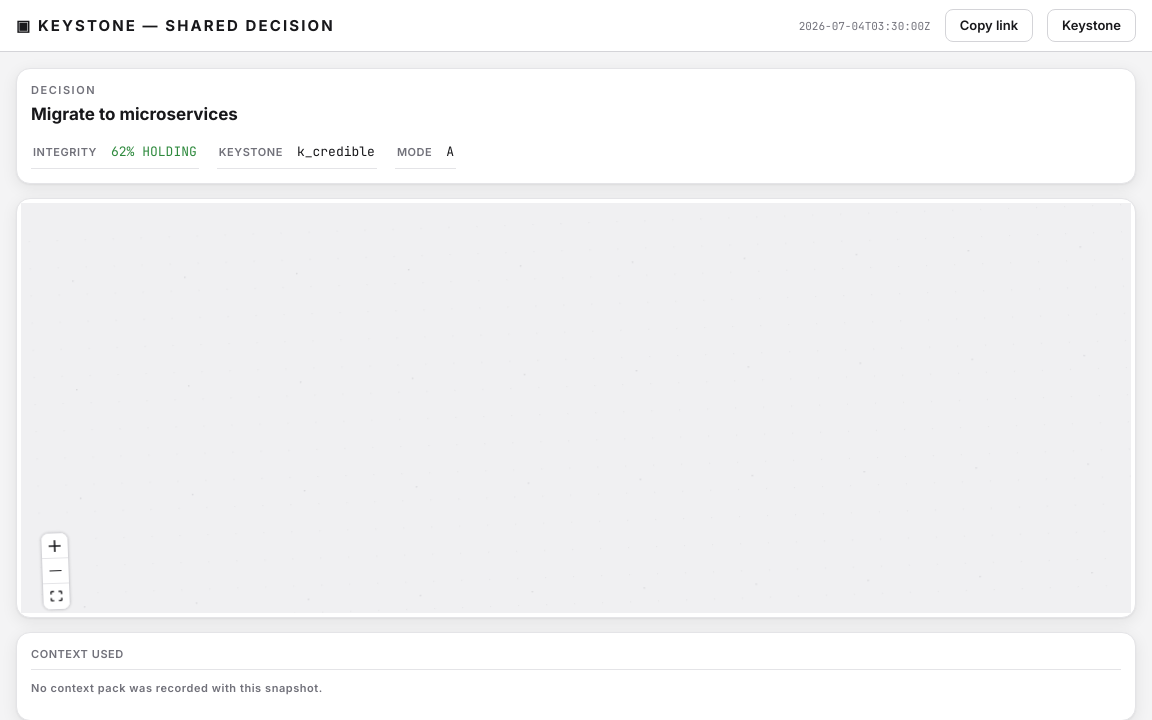
Test: ShareView (/d/[id]) — read-only share render › Copy link writes the current URL to the clipboard and flips the button label
What coordinates should you click on to do the following:
click the button "Copy link"
I would click on:
 (989, 25)
Its box is [945,9,1033,42].
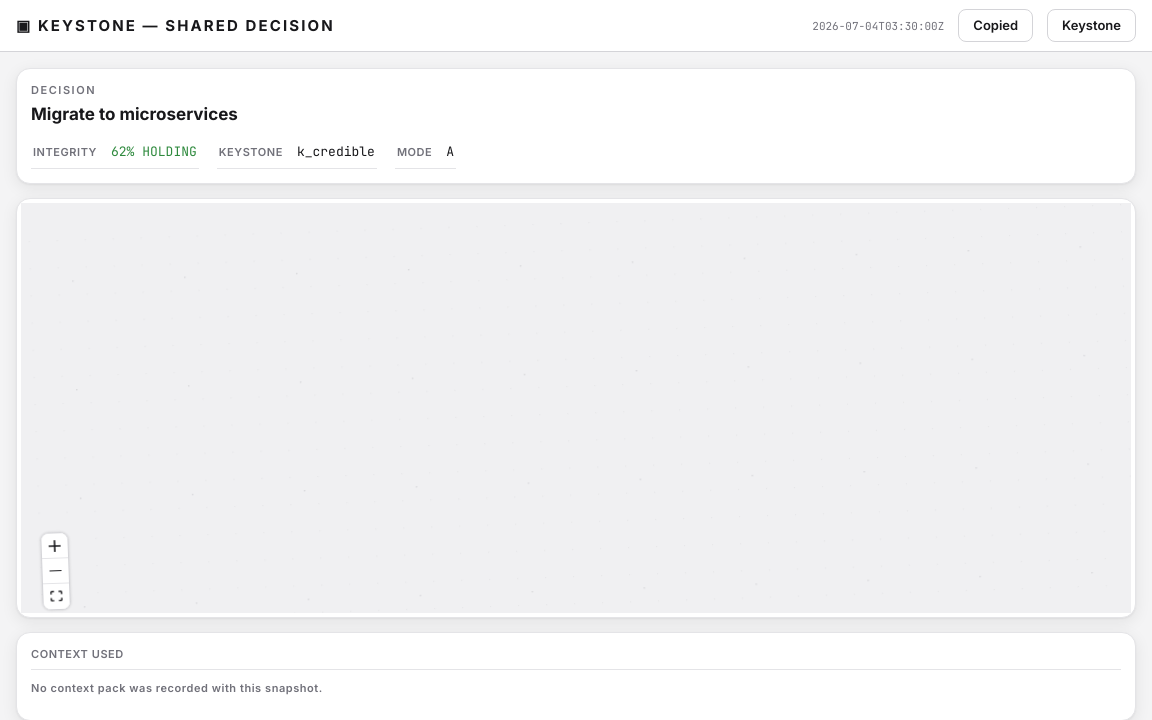
Expected: the button "Copied" is shown, [958,9,1033,42]
